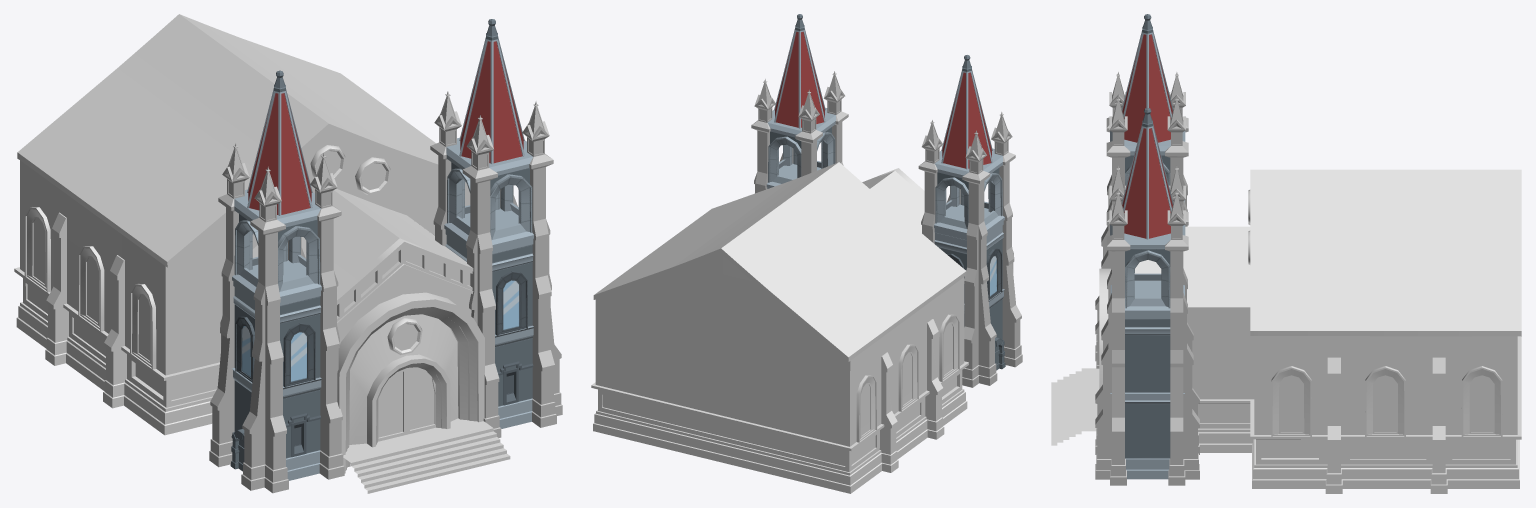
File: catedral.fbx
3 views of the same model, side by side, from view 1: azimuth 30°, elevation 25°; view 2: azimuth 150°, elevation 25°; view 3: azimuth 270°, elevation 25° (orthographic). The views are drawn at different scales.
Visible parts, largest first — view 1: catedral, torre 1, toore 2, pilar 2, pilar 7, pilar 8, pilar 1, pilar 4, pilar 5, puerta 1, puerta 2; view 2: catedral, torre 1, toore 2, pilar 4, pilar 2, pilar 3, pilar 6, pilar 5, pilar 8; view 3: catedral, toore 2, pilar 6, pilar 7, torre 1, pilar 1, pilar 3, pilar 8, pilar 5, pilar 2.
Boxes of the visible parts, box(x1,y1,x2,y2) form: catedral: box(14, 14, 510, 493); torre 1: box(230, 70, 321, 480); toore 2: box(444, 19, 533, 428); pilar 2: box(241, 166, 288, 493); pilar 7: box(522, 101, 562, 427); pilar 8: box(462, 115, 501, 437); pilar 1: box(310, 153, 350, 479); pilar 4: box(209, 143, 249, 467); pilar 5: box(430, 91, 461, 246); puerta 1: box(407, 367, 435, 434); puerta 2: box(378, 368, 406, 441); catedral: box(591, 162, 968, 493); torre 1: box(934, 55, 1005, 370); toore 2: box(766, 14, 835, 188); pilar 4: box(962, 130, 997, 387); pilar 2: box(991, 112, 1022, 367); pilar 3: box(918, 120, 942, 243); pilar 6: box(751, 79, 775, 193); pilar 5: box(795, 89, 822, 176); pilar 8: box(823, 71, 848, 165); catedral: box(1051, 169, 1521, 493); toore 2: box(1110, 108, 1185, 479); pilar 6: box(1165, 190, 1199, 485); pilar 7: box(1095, 190, 1130, 485); torre 1: box(1110, 14, 1185, 202); pilar 1: box(1095, 96, 1130, 368); pilar 3: box(1165, 96, 1188, 226); pilar 8: box(1095, 166, 1125, 454); pilar 5: box(1169, 165, 1199, 454); pilar 2: box(1095, 72, 1125, 361).
Size of the model in its own units: 2355 by 2526 by 3029.
